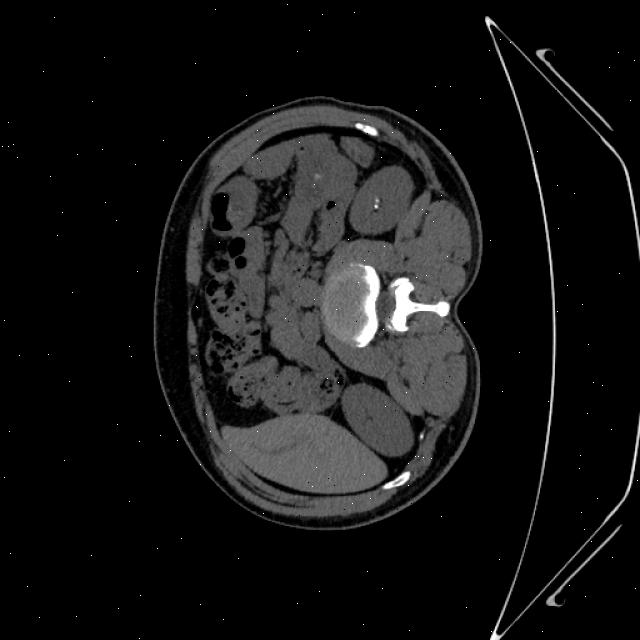kidneystone: (374, 196, 382, 212)
